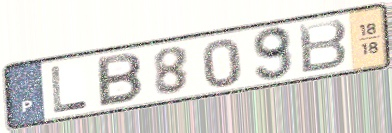0: (199, 35, 245, 90)
8: (150, 45, 191, 98)
9: (250, 24, 296, 84)
B: (295, 17, 349, 76), (95, 51, 145, 110)
L: (49, 64, 90, 115)
